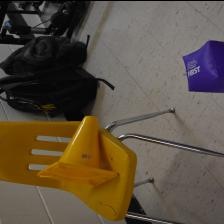cone: (36, 114, 119, 186)
cube: (182, 39, 224, 93)
